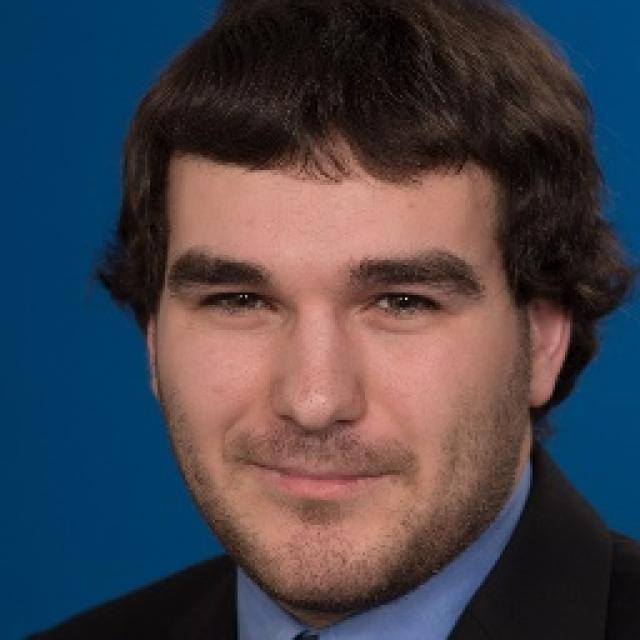earlobe: (522, 376, 556, 410), (147, 374, 162, 402)
eye: (195, 283, 282, 327), (359, 290, 455, 324)
nose: (274, 412, 363, 462)
wholeear: (526, 246, 577, 407), (133, 273, 165, 402)
